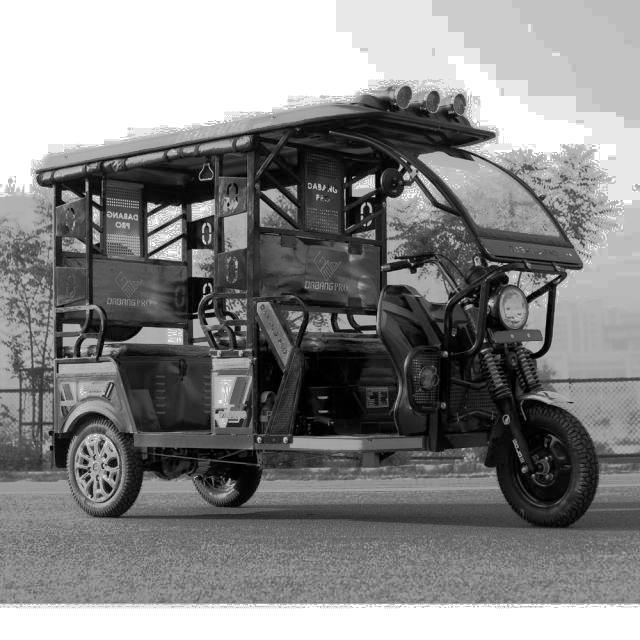Toto: (31, 94, 598, 532)
